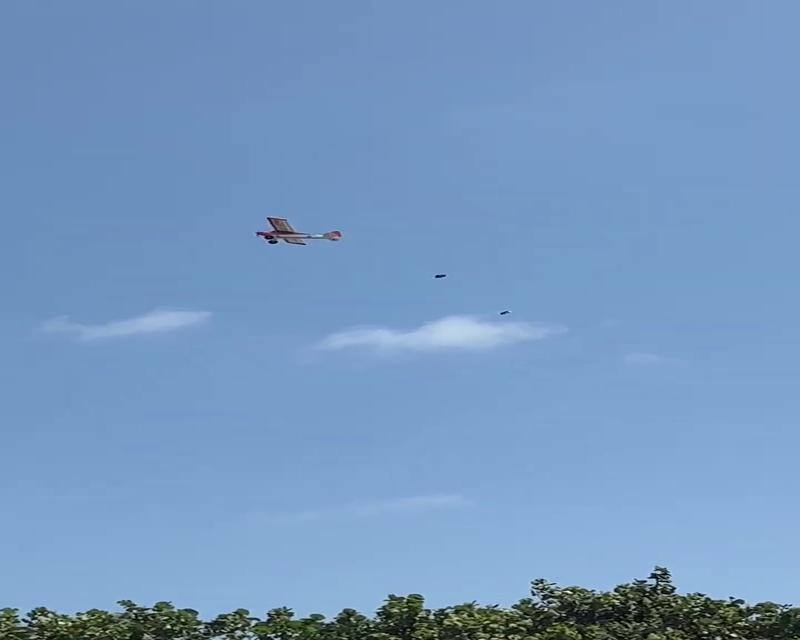UAV: (253, 217, 343, 246)
